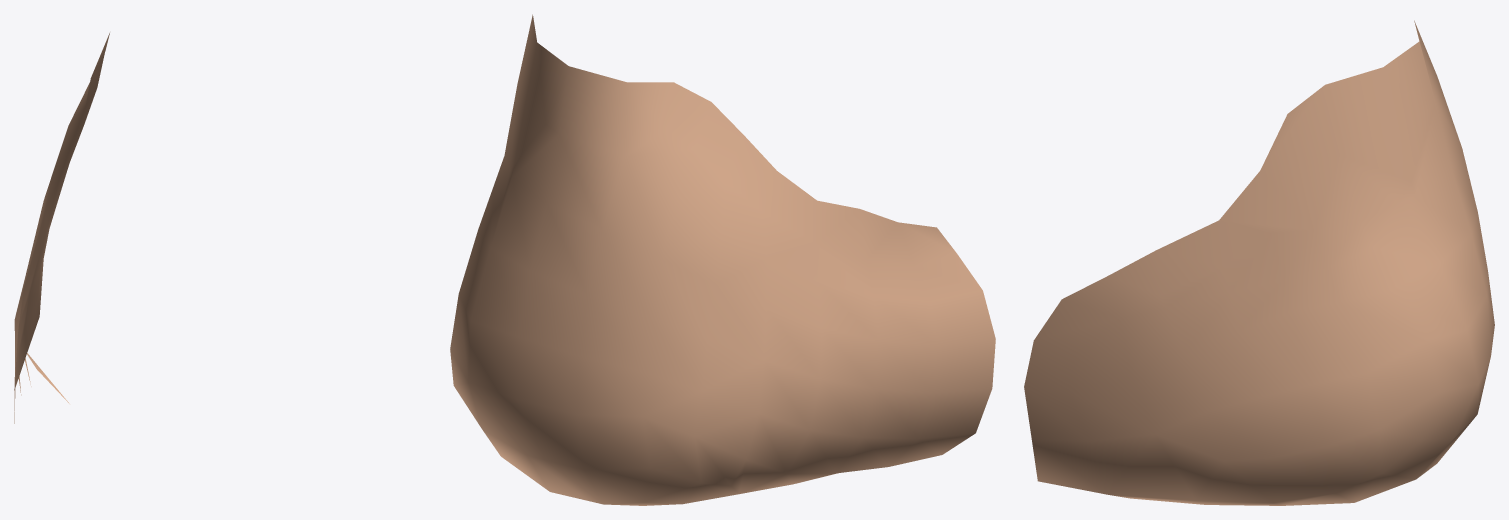
File: heel-region-r.glb
3 renders of one model, left to right at view 1: azimuth 30°, elevation 25°; view 2: azimuth 150°, elevation 25°; view 3: azimuth 270°, elevation 25°, orthographic. The views are drawn at different scales.
Parts seen in each view (by area): view 1: Heel region.r; view 2: Heel region.r; view 3: Heel region.r.
Boxes of the visible parts, box(x1,y1,x2,y2) form: Heel region.r: box(14, 33, 109, 423); Heel region.r: box(450, 14, 995, 505); Heel region.r: box(1024, 20, 1494, 505).
Bounding box in the file's own units: 0.068 × 0.0676 × 0.0631.
